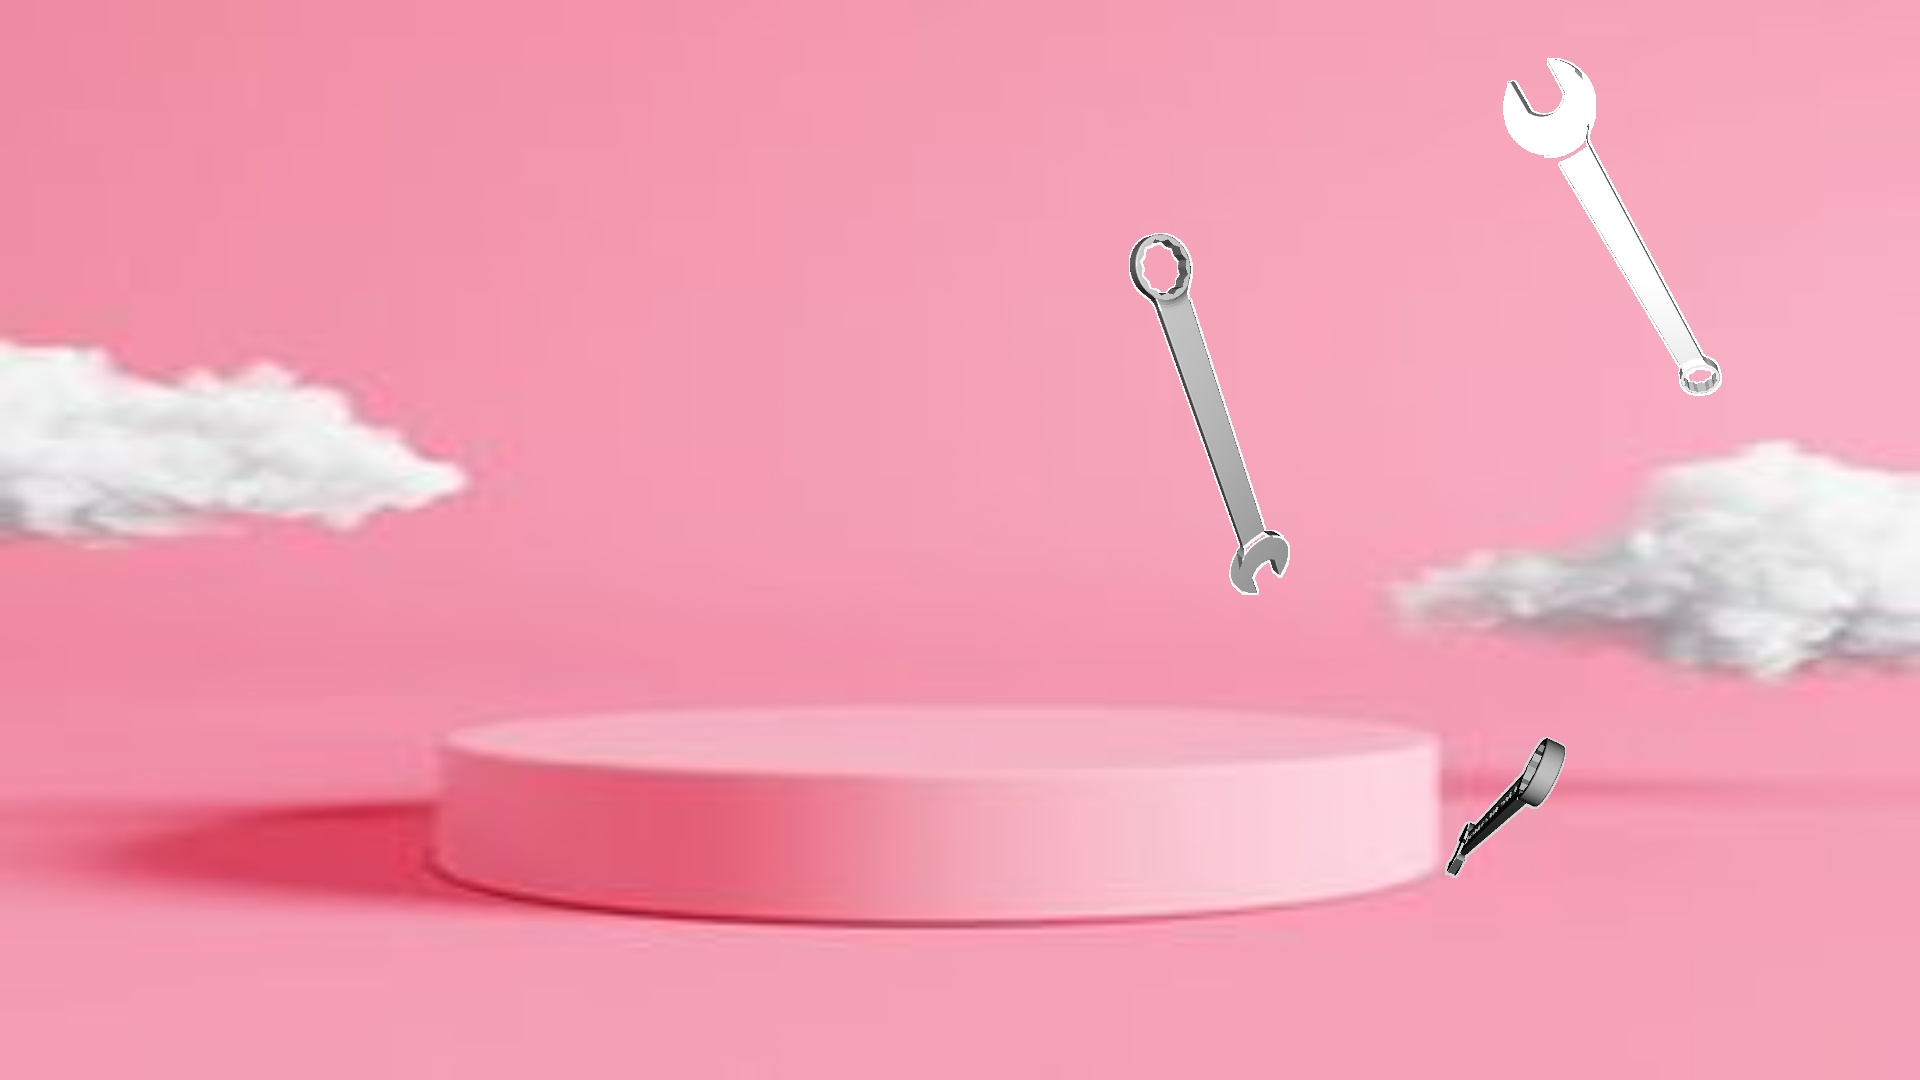Mixed Key: (1503, 58, 1721, 396), (1129, 233, 1288, 593), (1445, 737, 1565, 877)
